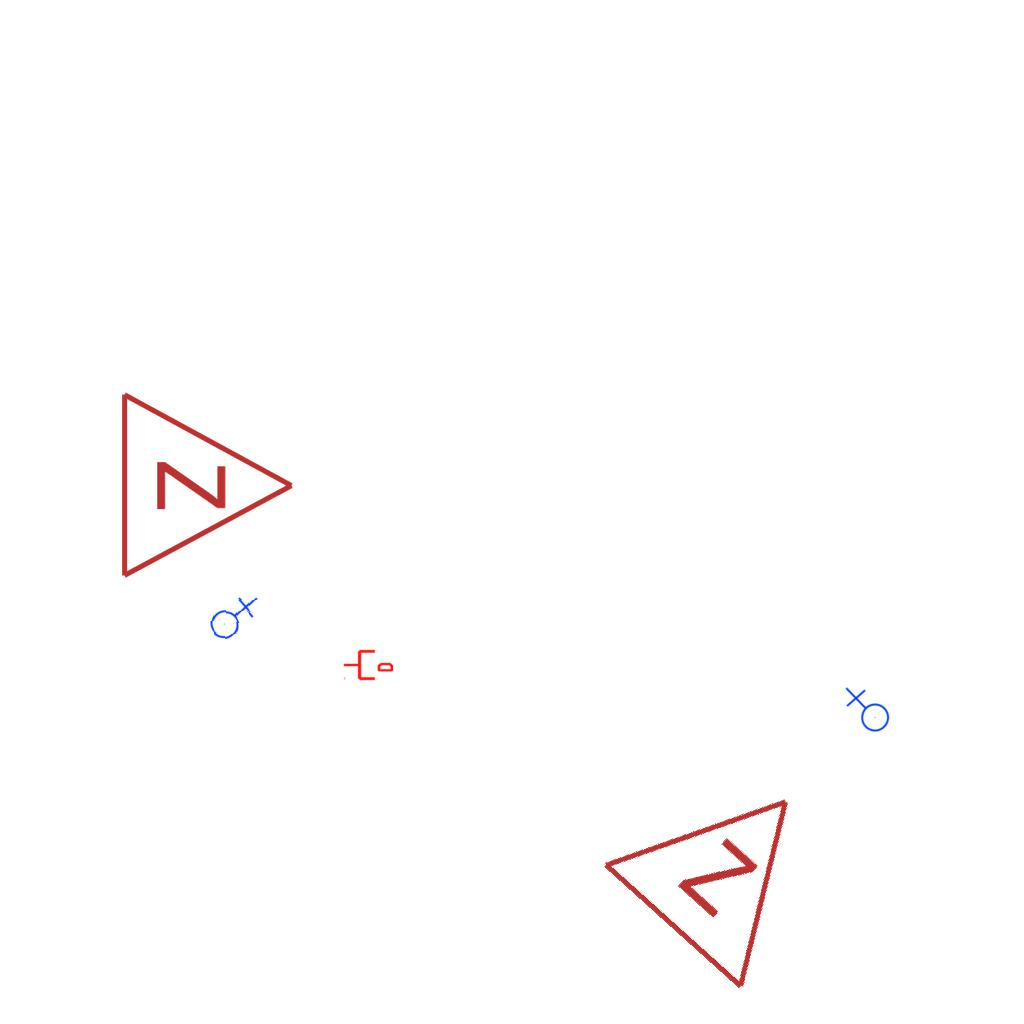Datenanschluss_einfach: (343, 648, 393, 682)
Elektroanschluss_allgemein_230V_Geraeteanschlussdose_230V: (205, 590, 258, 643), (843, 687, 890, 736)
Zimmersignalleuchte: (587, 723, 867, 1003), (107, 385, 307, 581)
